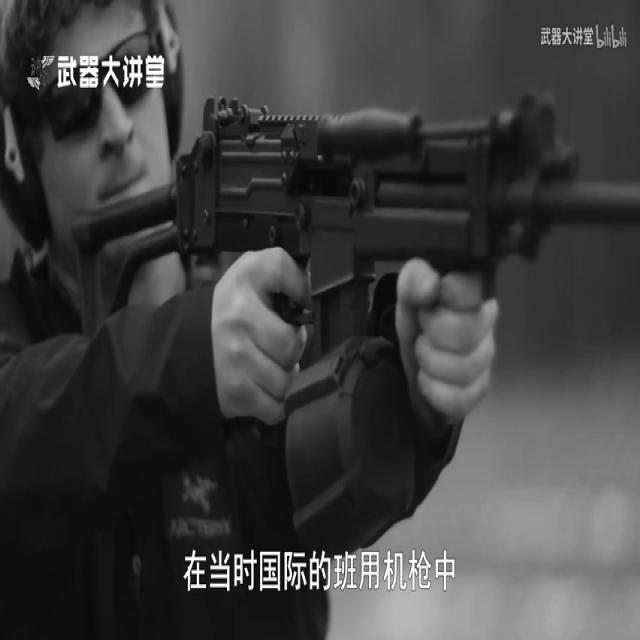Rifle: (40, 78, 617, 365)
